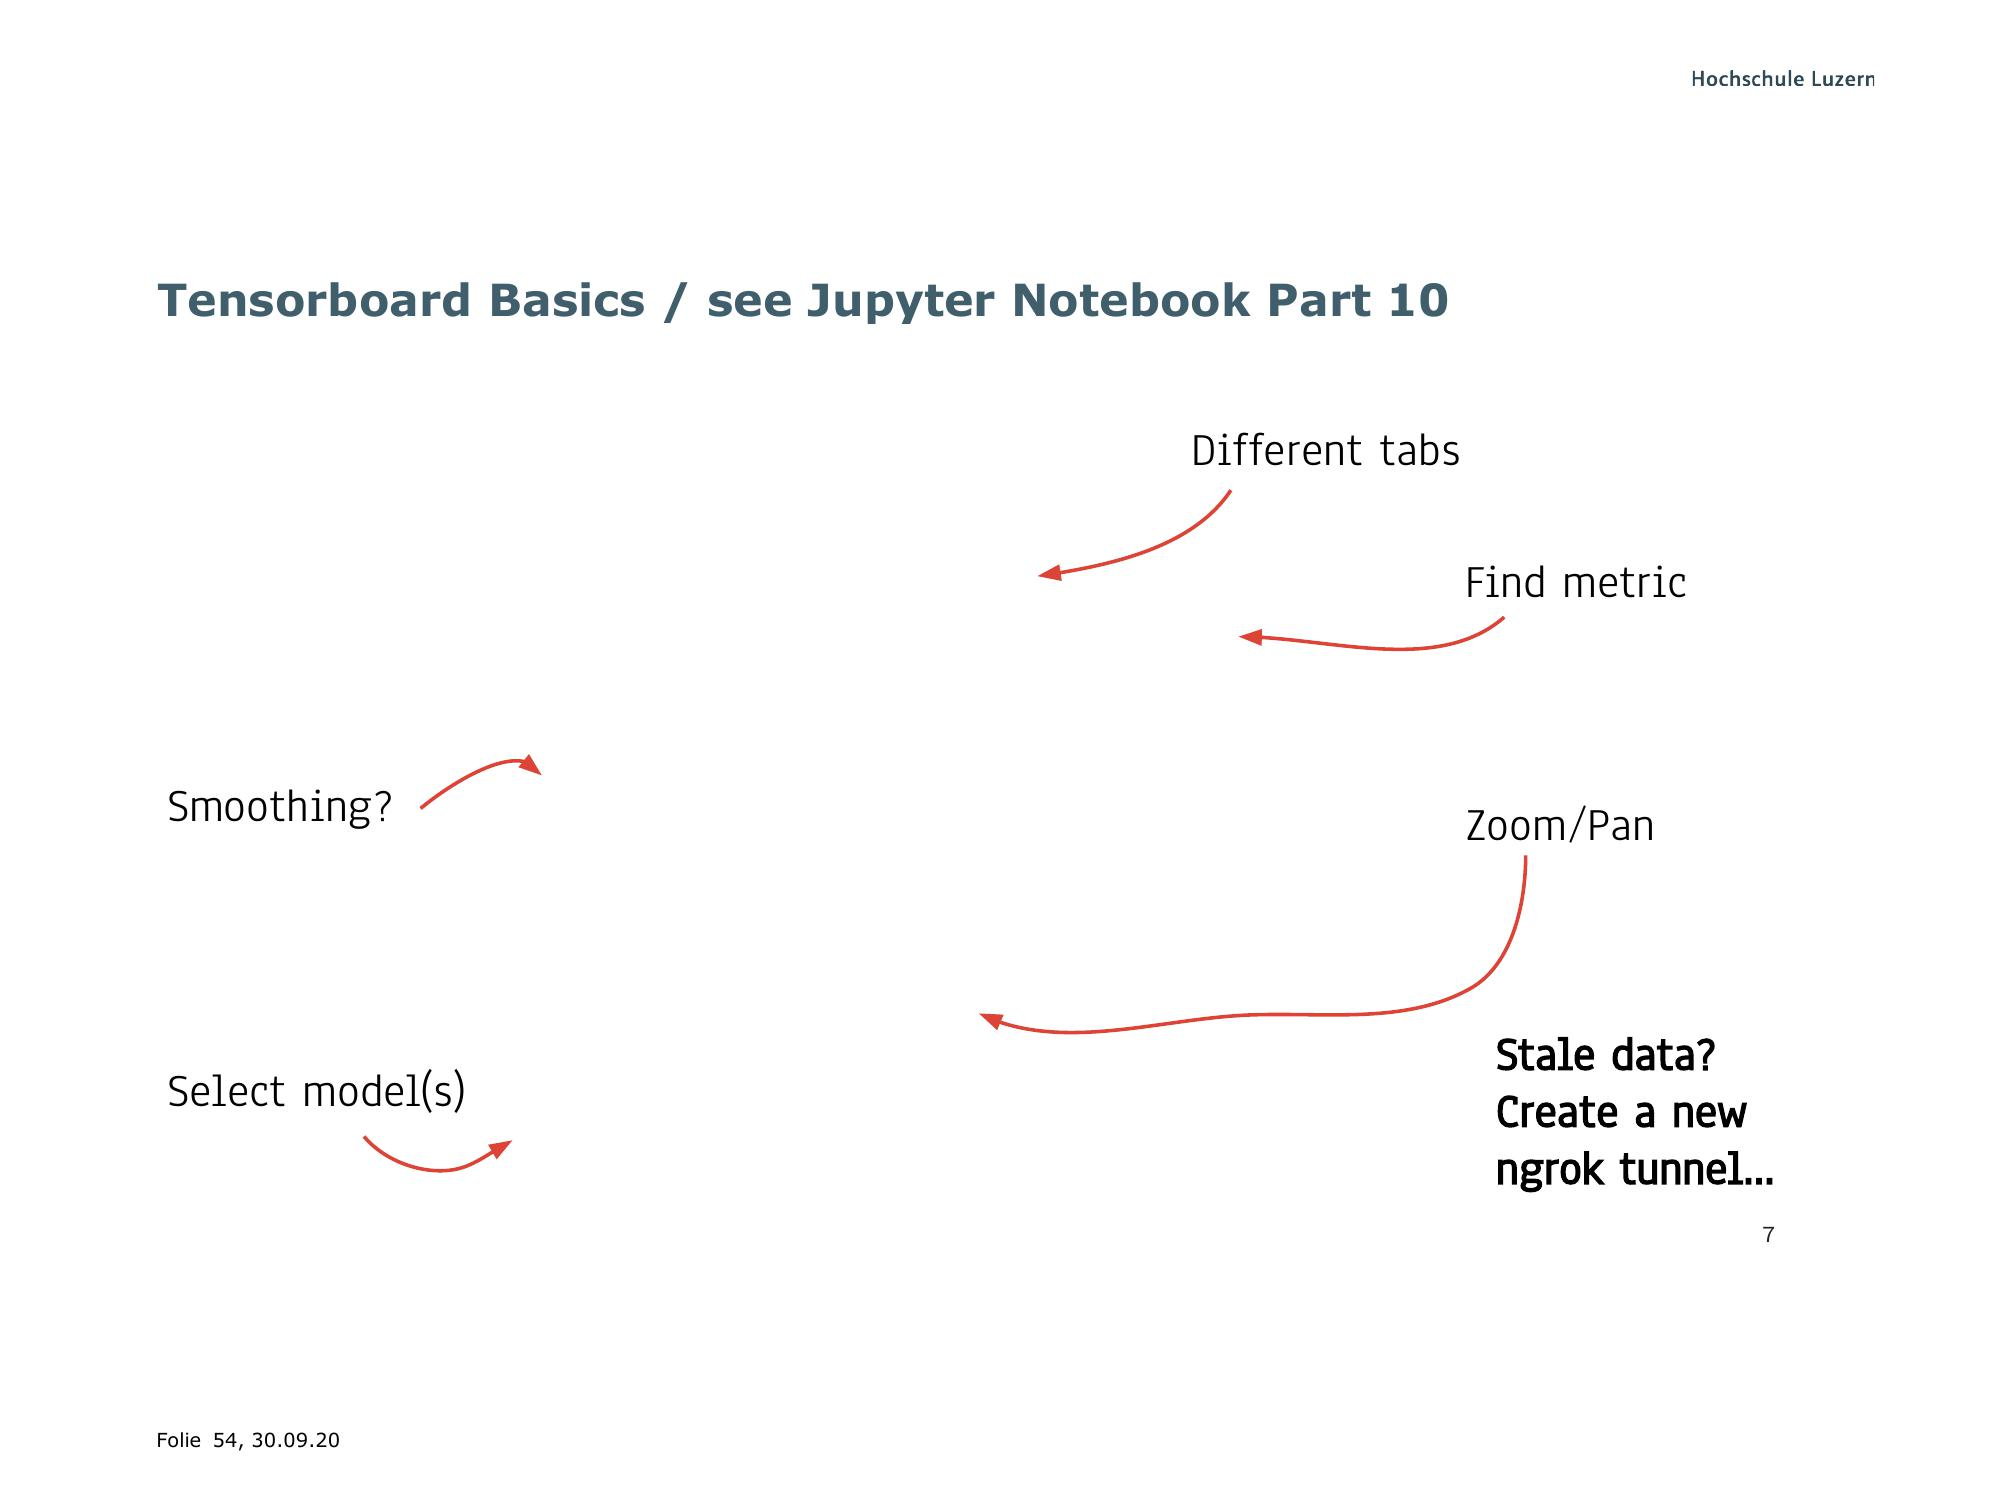Title: (124, 258, 1471, 339)
